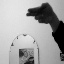h: (24, 2, 58, 25)
